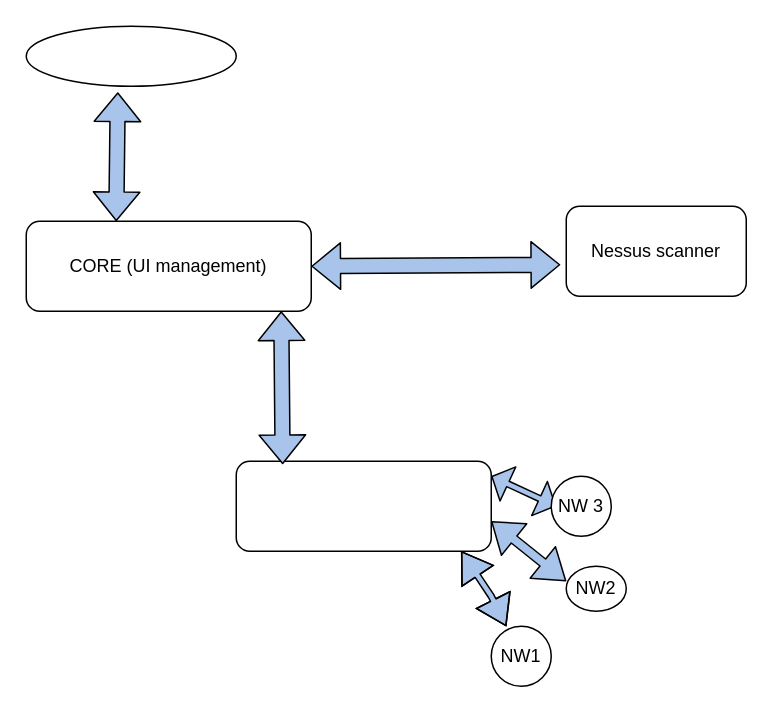
This 773x713 diagram has some shape labels left out. Here are the shapes that lost their labels. From the top down, the centre of each, then its label:
At pixel 130 55: "INTERNET".
At pixel 363 505: "Scanner and server".
